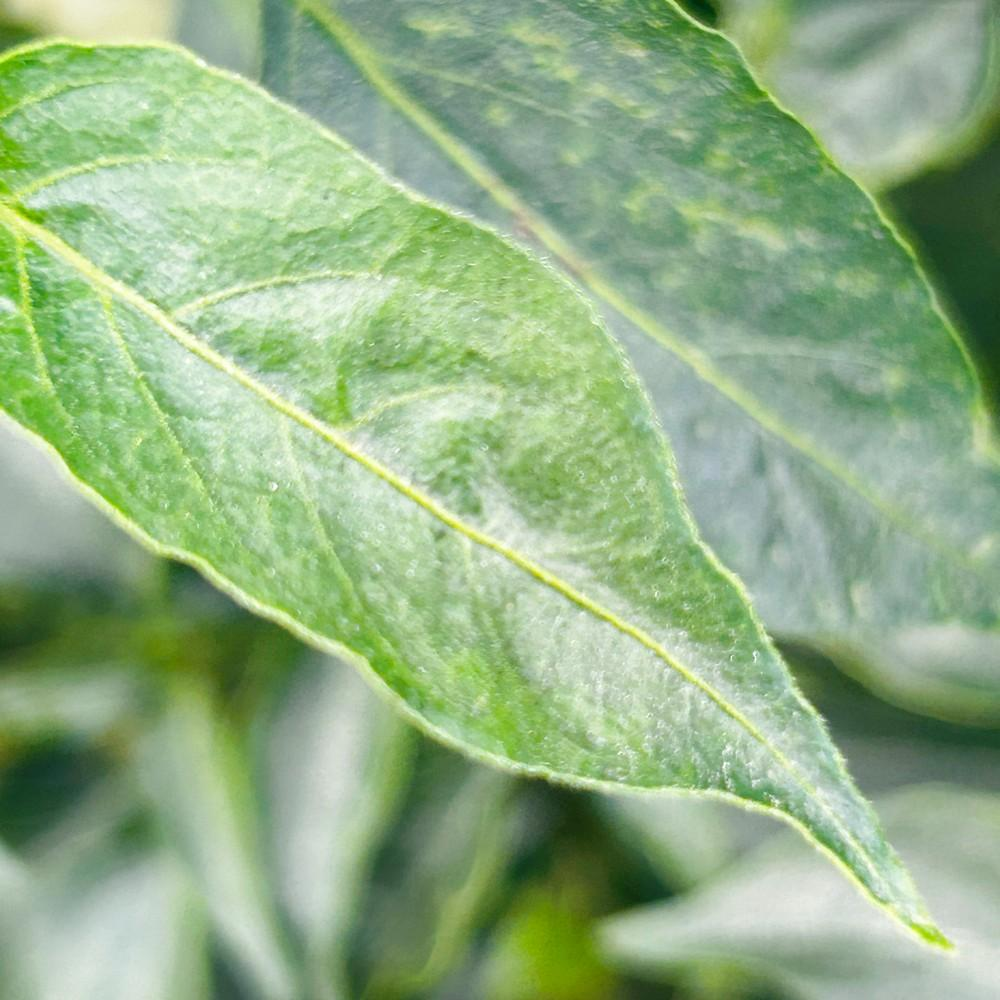Daun Cabai Sehat: (0, 26, 962, 955)
